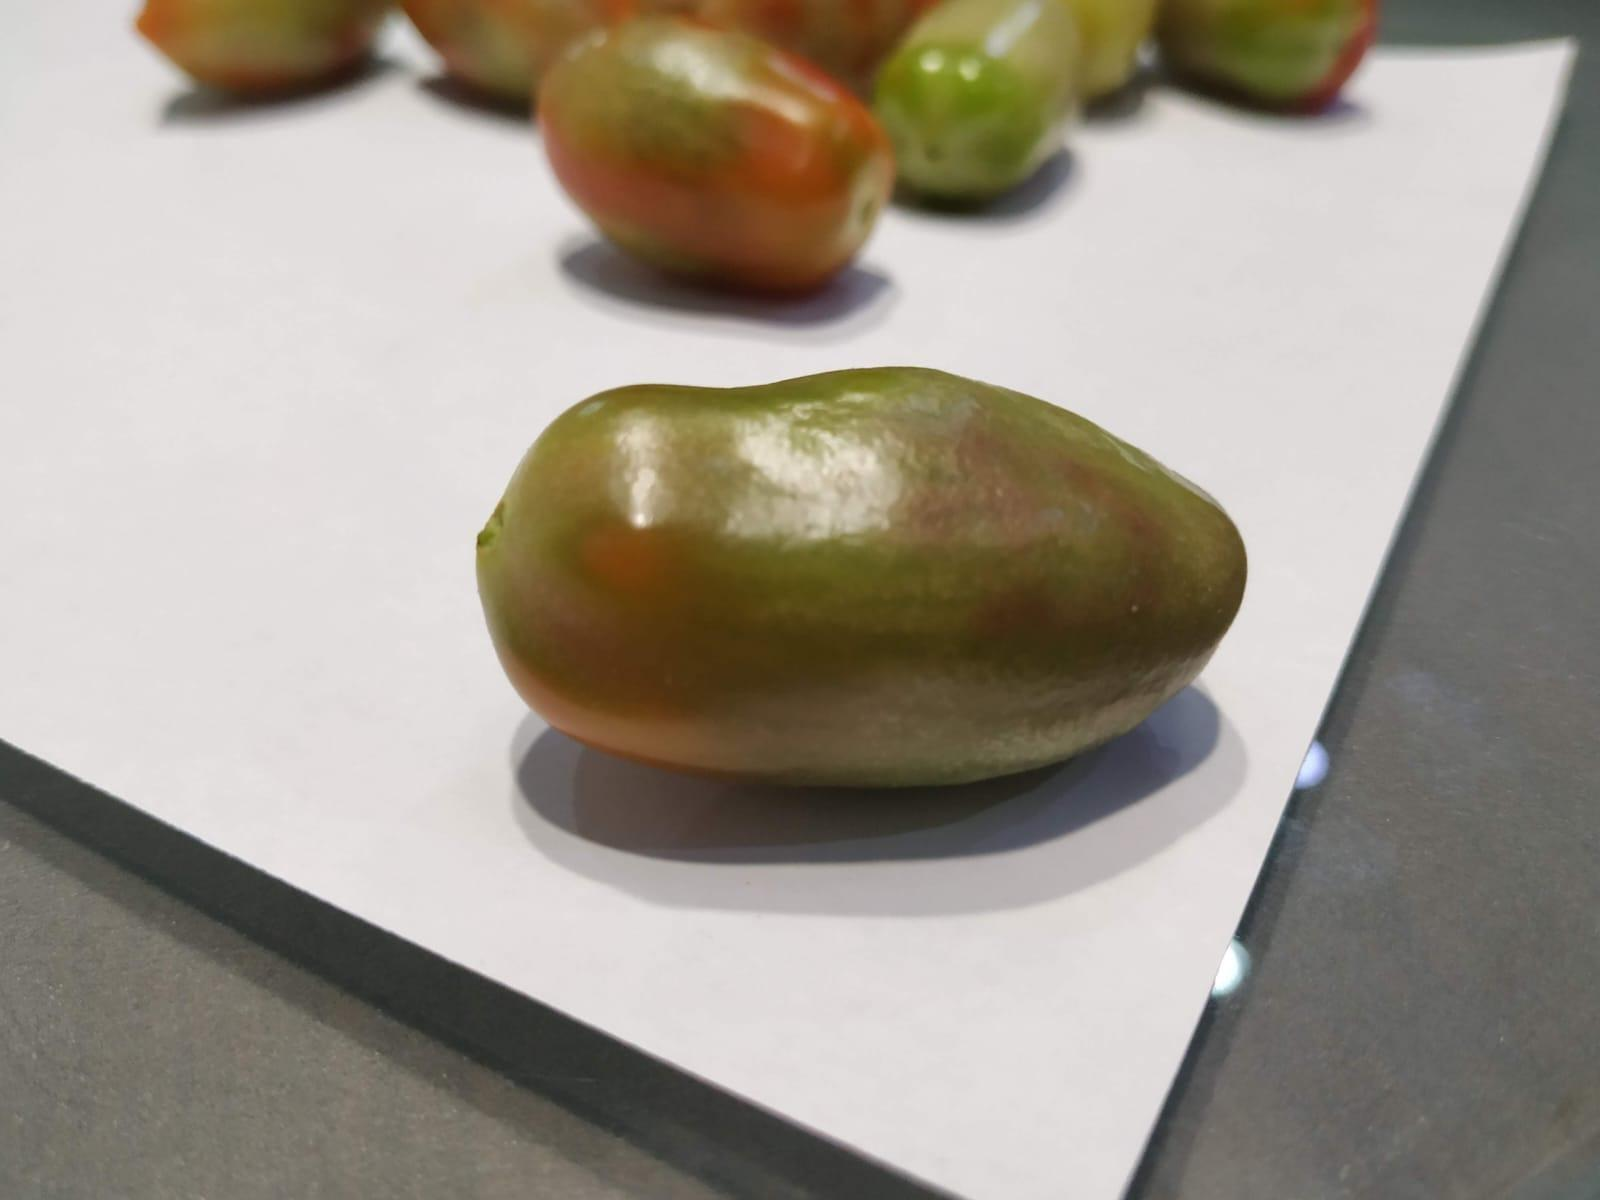Rugose tomato: (476, 366, 1246, 785)
